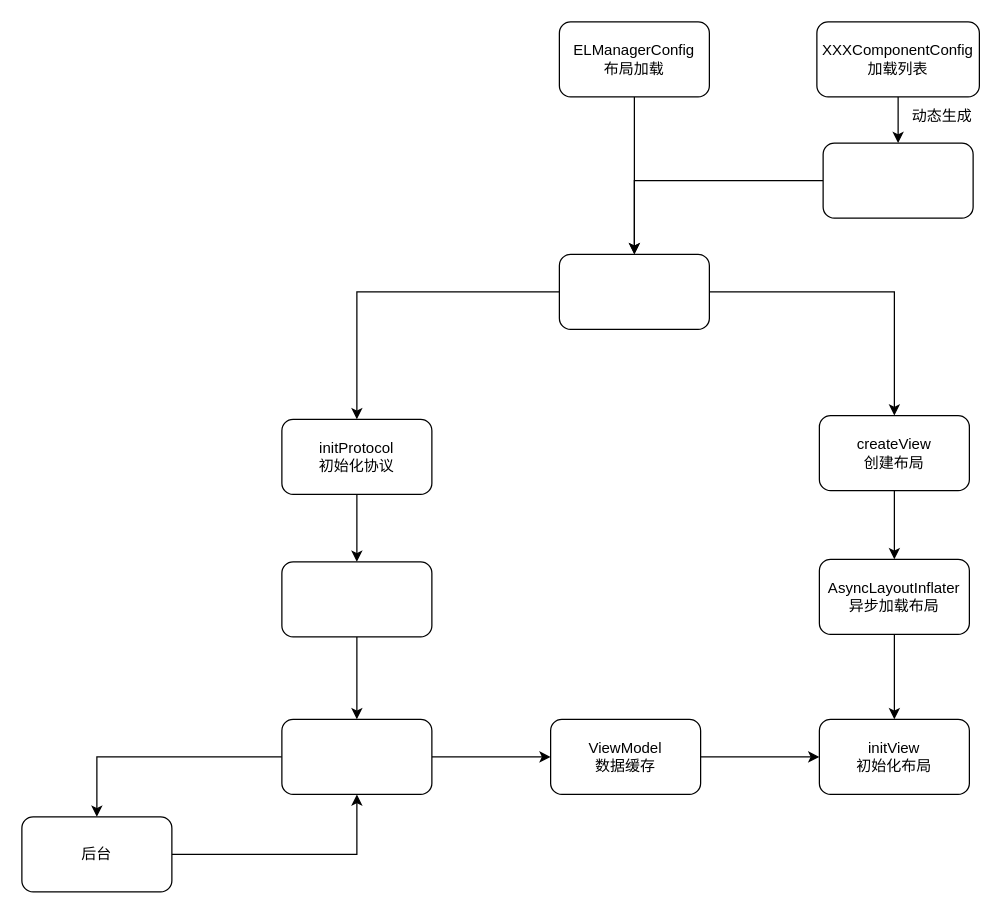
This 1001x914 diagram has some shape labels left out. Each missing label, with the centre of its shape:
"ELManagerConfig" belongs at (x=633, y=291).
"ProrityList 优先级队列" belongs at (x=897, y=180).
"ThreadPool" belongs at (x=356, y=599).
"XXXImpl 协议请求" belongs at (x=356, y=756).
